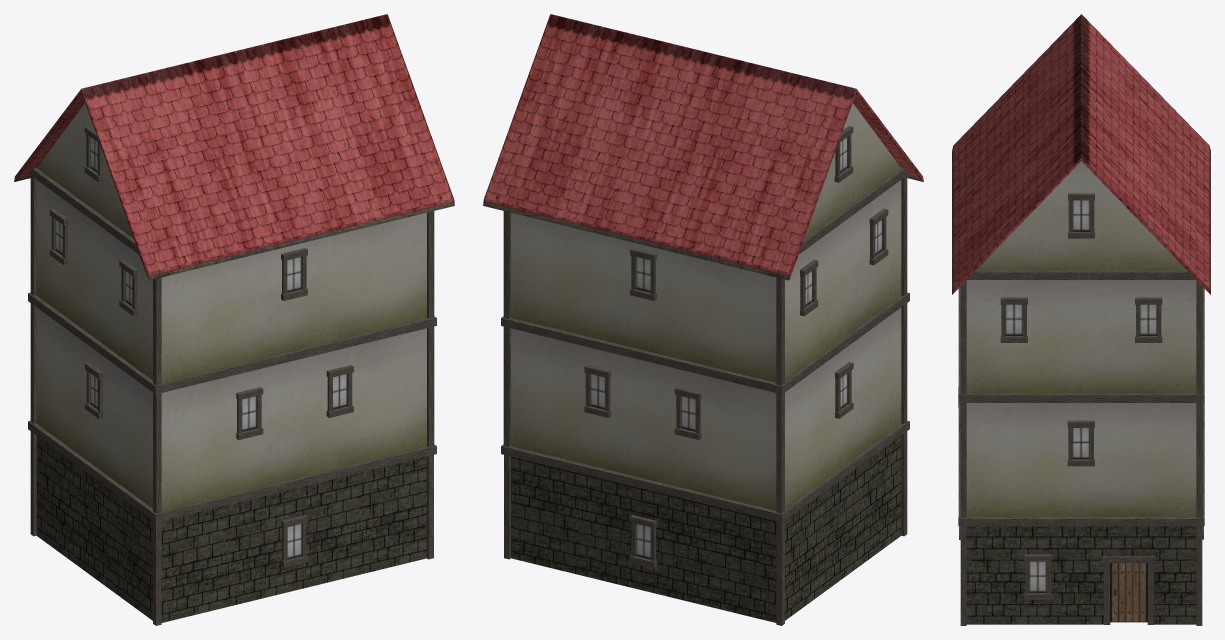
The model's file is House02b.obj.
The picture shows the model from 3 angles, left to right: view 1: azimuth 30°, elevation 25°; view 2: azimuth 150°, elevation 25°; view 3: azimuth 270°, elevation 25°; orthographic projection. The views are drawn at different scales.
Visible parts, largest first — view 1: polySurface38; view 2: polySurface38; view 3: polySurface38.
Boxes of the visible parts, bbox=[...] form: polySurface38: bbox=[14, 14, 454, 625]; polySurface38: bbox=[483, 14, 923, 625]; polySurface38: bbox=[952, 14, 1210, 625].
Size of the model in its own units: 20.27 by 31.25 by 15.42.
1 material, 1 textured.
